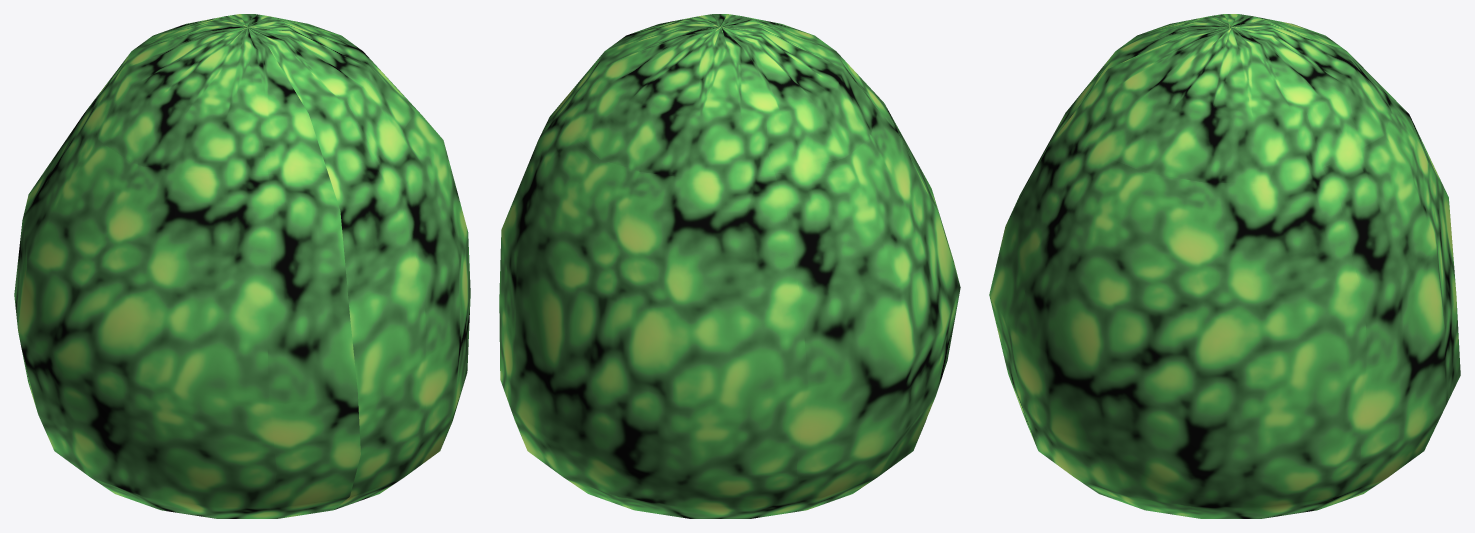
Rendered from GAMEJAMPUFFER - Bush 3.fbx.
3 views of the same model, side by side, from view 1: azimuth 30°, elevation 25°; view 2: azimuth 150°, elevation 25°; view 3: azimuth 270°, elevation 25° (orthographic).
Parts seen in each view (by area): view 1: Beach Ball.003; view 2: Beach Ball.003; view 3: Beach Ball.003.
Part boxes in pixels (bbox=[...]): Beach Ball.003: bbox=[14, 14, 470, 518]; Beach Ball.003: bbox=[499, 14, 960, 518]; Beach Ball.003: bbox=[989, 14, 1460, 518].
Bounding box in the file's own units: 229 × 230 × 234.
Materials: 1 (1 with a texture image).
